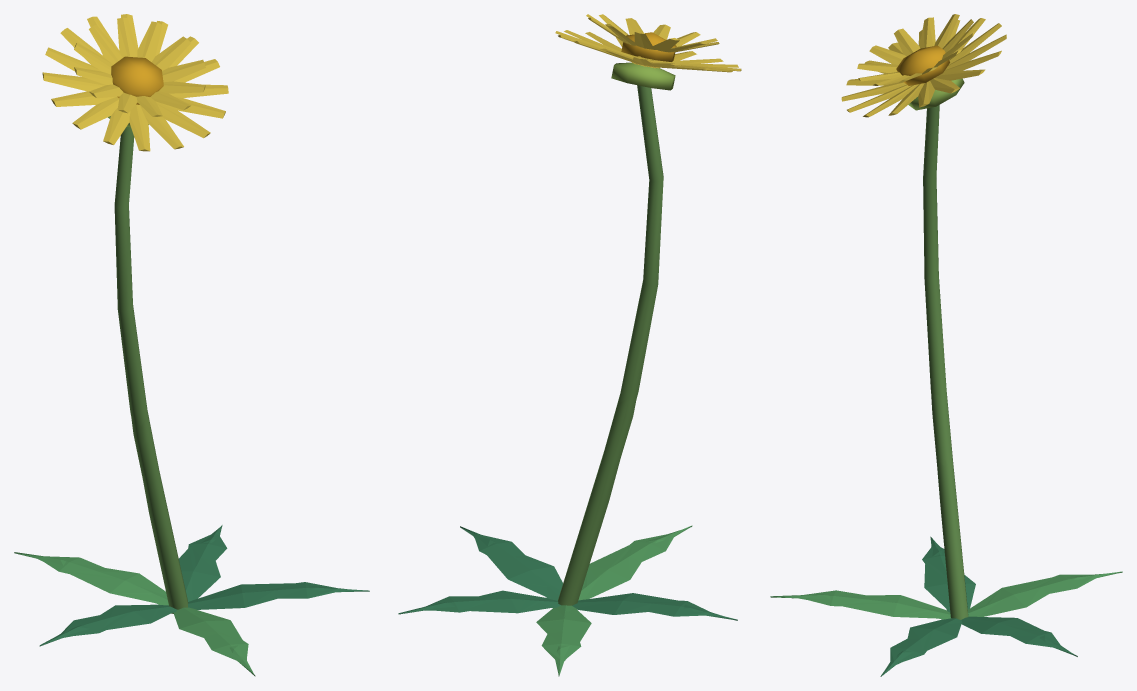
Rendered from dandelion_b.glb.
3 renders of one model, left to right at view 1: azimuth 30°, elevation 25°; view 2: azimuth 150°, elevation 25°; view 3: azimuth 270°, elevation 25°, orthographic. The views are drawn at different scales.
Parts seen in each view (by area): view 1: petal_yellow_nl, body__far, leaf_nl, stem; view 2: body__far, leaf_nl, petal_yellow_nl, stem; view 3: body__far, petal_yellow_nl, leaf_nl, stem.
Part boxes in pixels (x1=…): petal_yellow_nl: x1=42, y1=14, x2=228, y2=151; body__far: x1=38, y1=56, x2=353, y2=671; leaf_nl: x1=14, y1=116, x2=369, y2=676; stem: x1=118, y1=309, x2=187, y2=613; body__far: x1=425, y1=32, x2=728, y2=671; leaf_nl: x1=398, y1=76, x2=737, y2=676; petal_yellow_nl: x1=555, y1=14, x2=741, y2=72; stem: x1=568, y1=285, x2=657, y2=605; body__far: x1=799, y1=45, x2=1114, y2=664; petal_yellow_nl: x1=841, y1=14, x2=1006, y2=117; leaf_nl: x1=770, y1=536, x2=1122, y2=676; stem: x1=926, y1=319, x2=953, y2=599.
Bounding box in the file's own units: 9.26 × 17.5 × 9.88.
